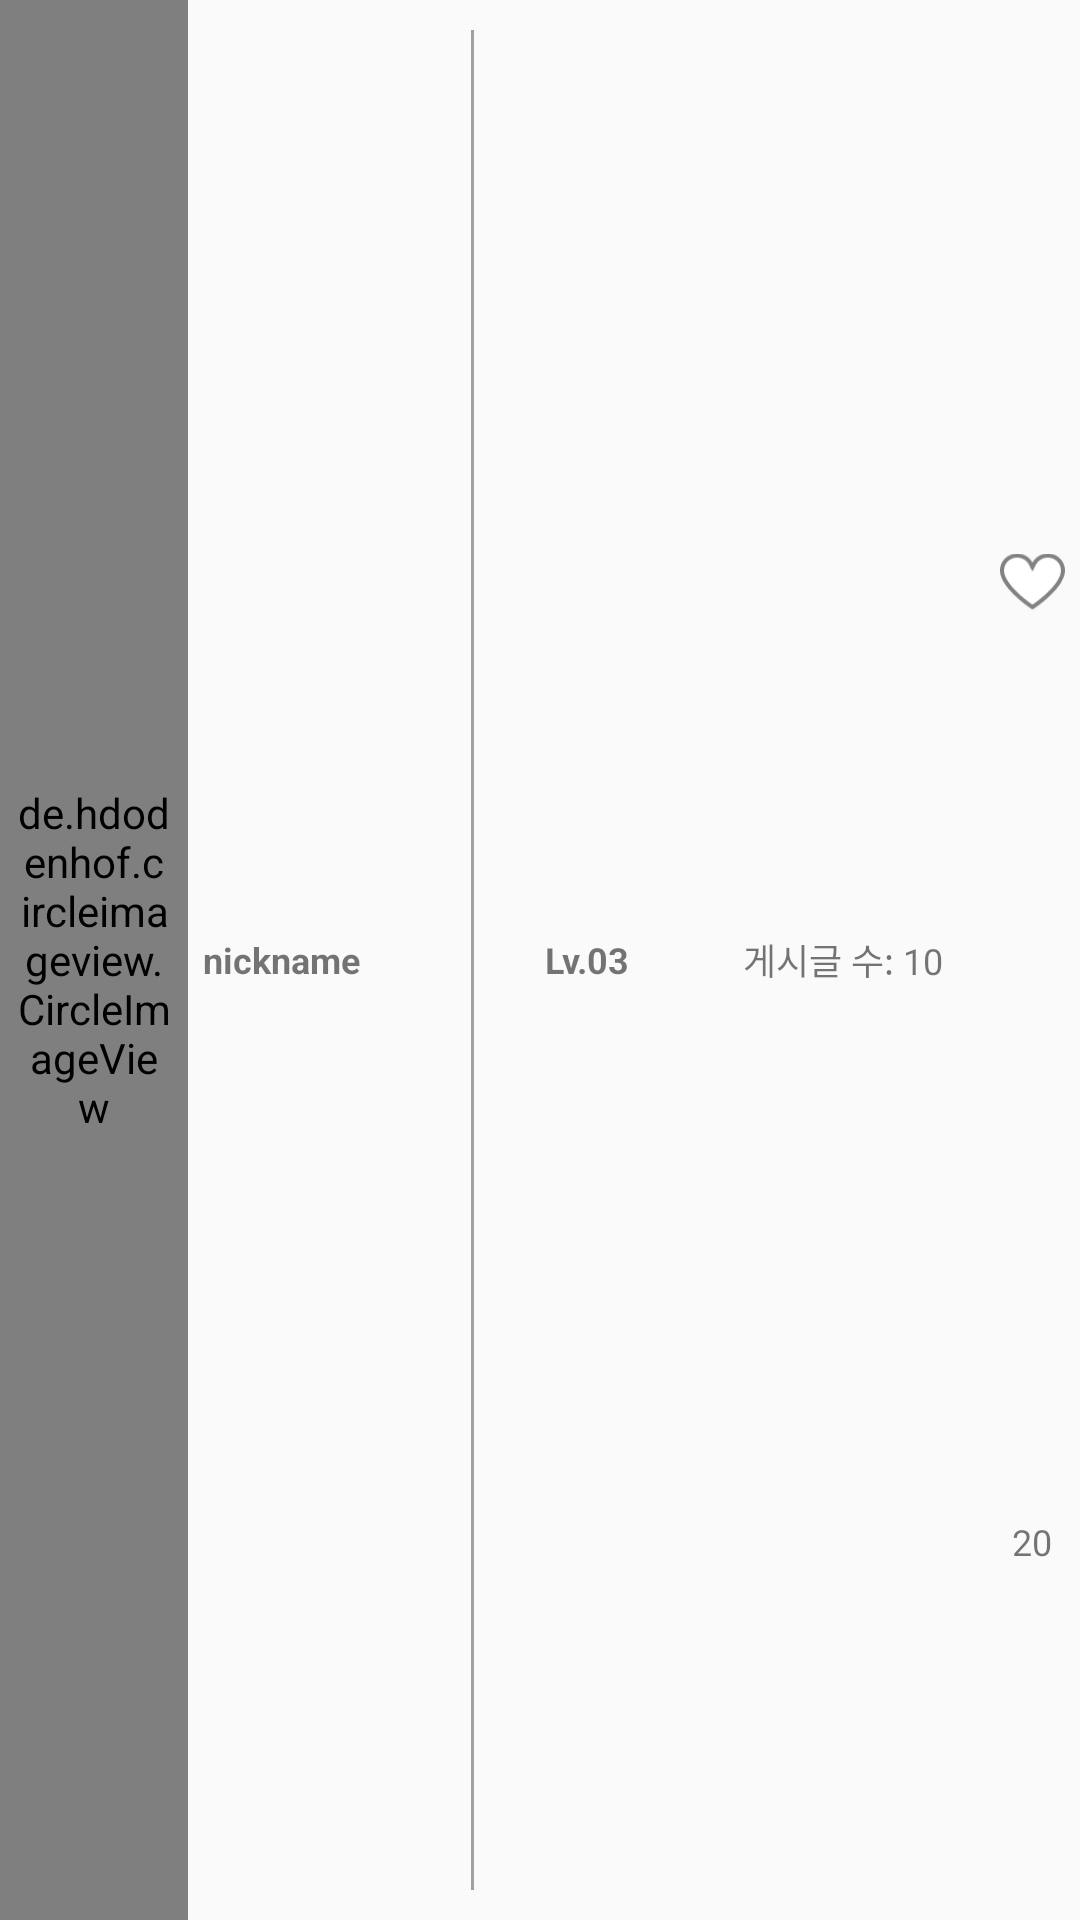

Icons on this 1080px x 1920px Android screen, each with its box as (x1, y1, x2, y2):
follow empty: (1000, 554, 1065, 610)
